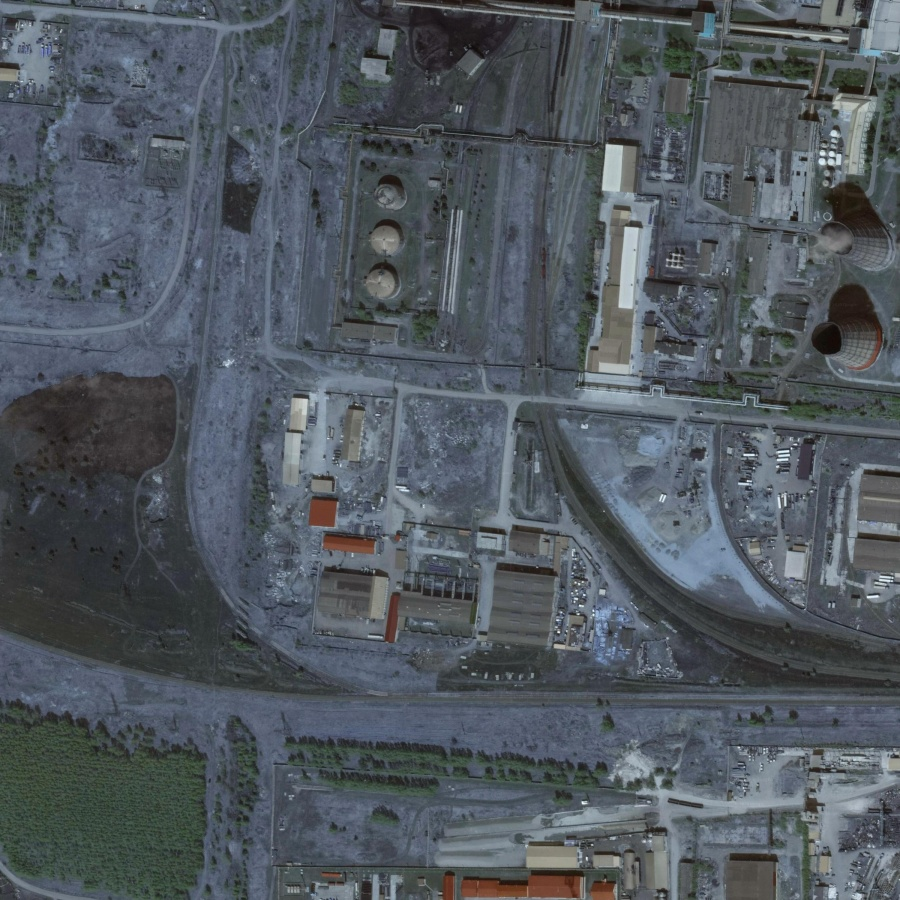PowerPlant: (325, 117, 473, 359)
